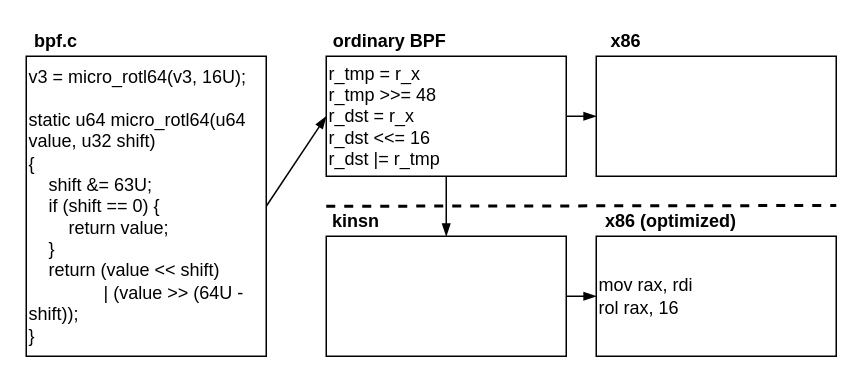
The diagram is 866 pixels wide and 383 high, and some of its shapes have lost their labels. The shapes that lost their labels are listed below. From the top down, each one's centre as x and y in pixels, then its label:
(x=715, y=115): mov rcx, rdi shr rcx, 48 mov rax, rdi shl rax, 16 or rax, rcx
(x=445, y=295): rotate64 {dst=r7, src=r5, imm=16}
